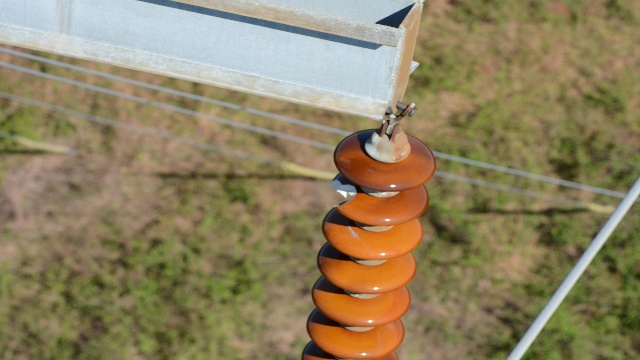broken_local: (327, 176, 360, 212)
insulator_unspecified: (302, 130, 434, 359)
